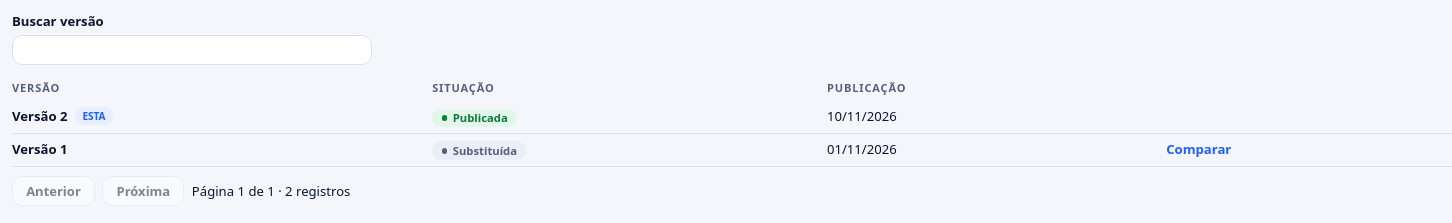
Test: histórico de versões › a busca acha pelo hash oculto
In the search field labelled "Buscar versão": (192, 50) [12,34,372,64], type "zzz"
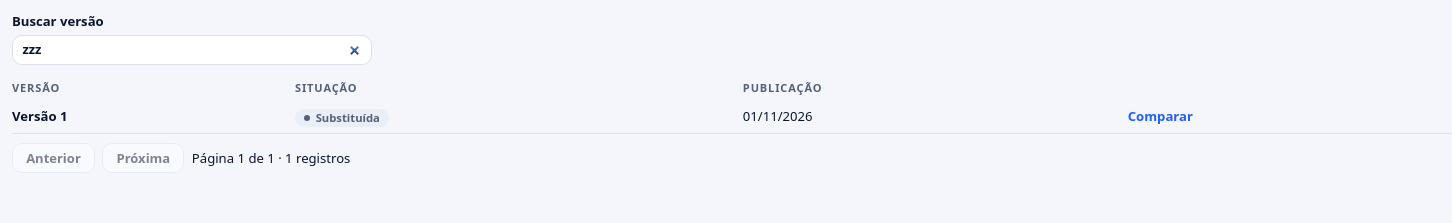
Expected: the link "Versão 2" is gone
